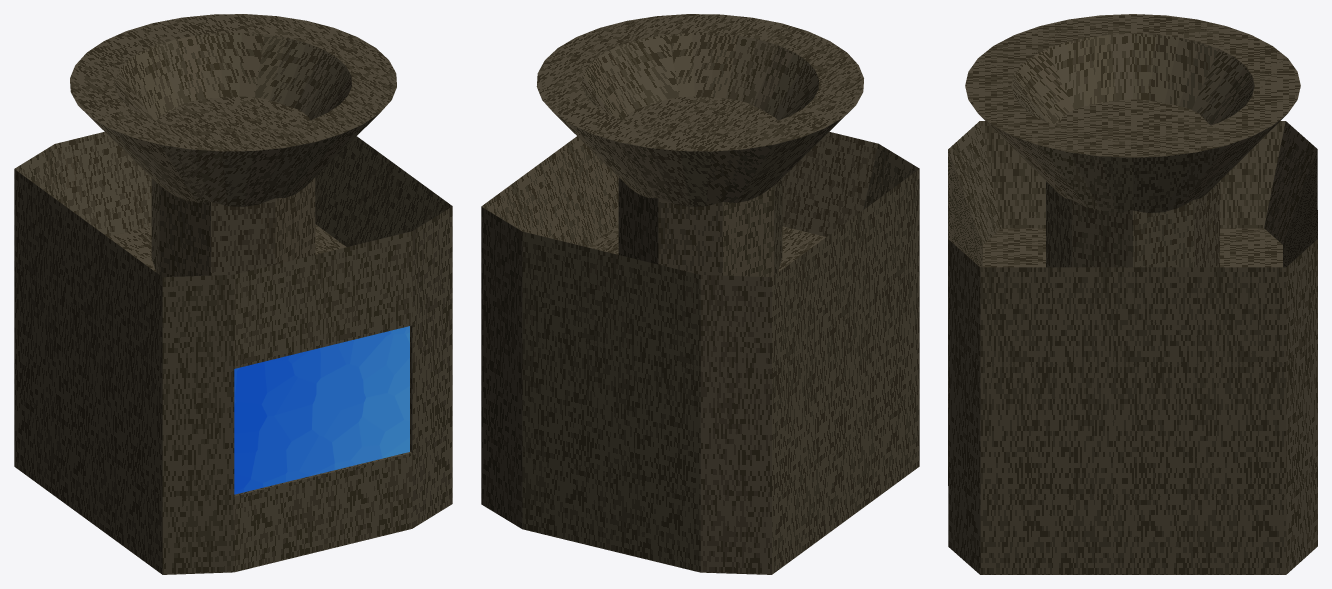
Rendered from oven.glb.
3 views of the same model, side by side, from view 1: azimuth 30°, elevation 25°; view 2: azimuth 150°, elevation 25°; view 3: azimuth 270°, elevation 25° (orthographic). The views are drawn at different scales.
Visible parts, largest first — view 1: Plane; view 2: Plane; view 3: Plane.
Boxes of the visible parts, x1,y1,x2,y2 form: Plane: (14, 14, 452, 574); Plane: (481, 14, 919, 574); Plane: (948, 14, 1317, 574).
Bounding box in the file's own units: 0.5363 × 0.7097 × 0.572.
Materials: 2 (2 with a texture image).
